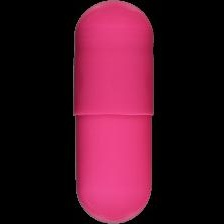50090-0380: (0, 0, 224, 224)
